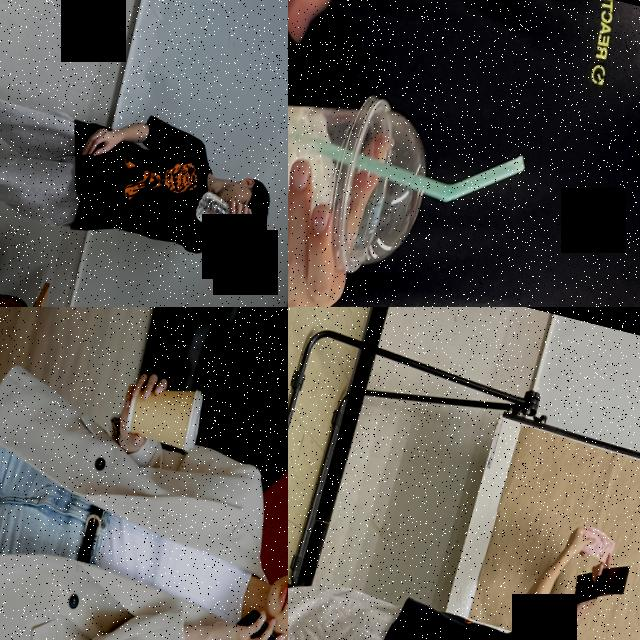bottle: (187, 188, 274, 252)
cup: (288, 50, 442, 286), (120, 371, 212, 456)
